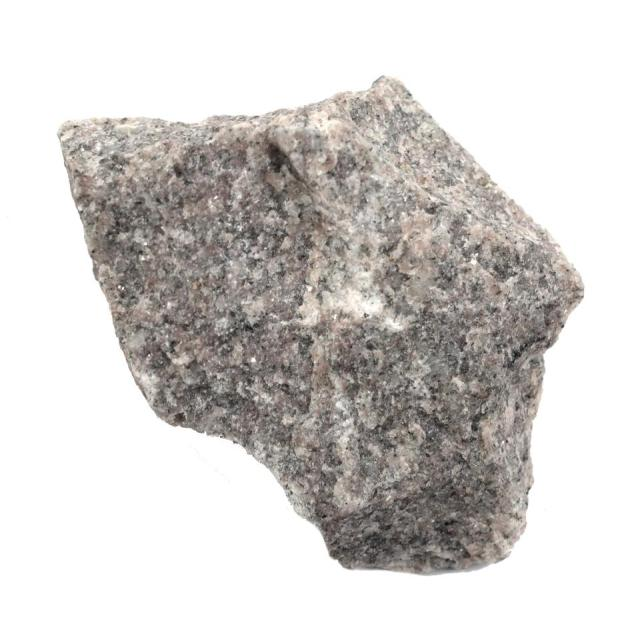Igneous: (43, 78, 585, 593)
